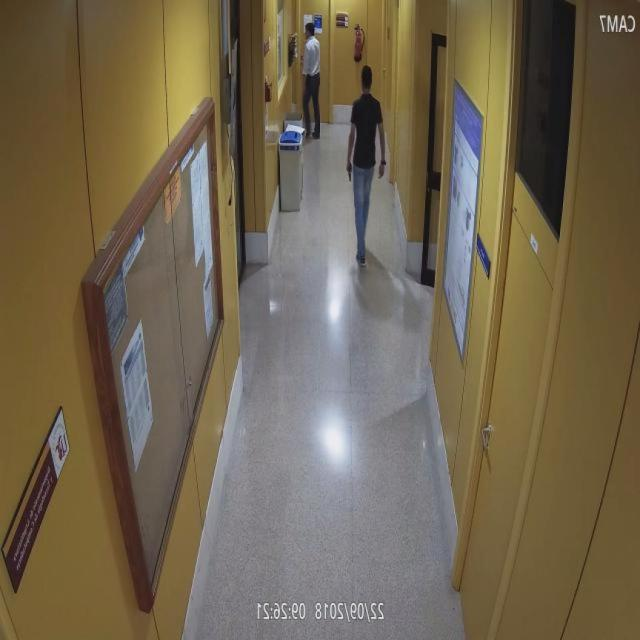pistol: (344, 161, 354, 182)
